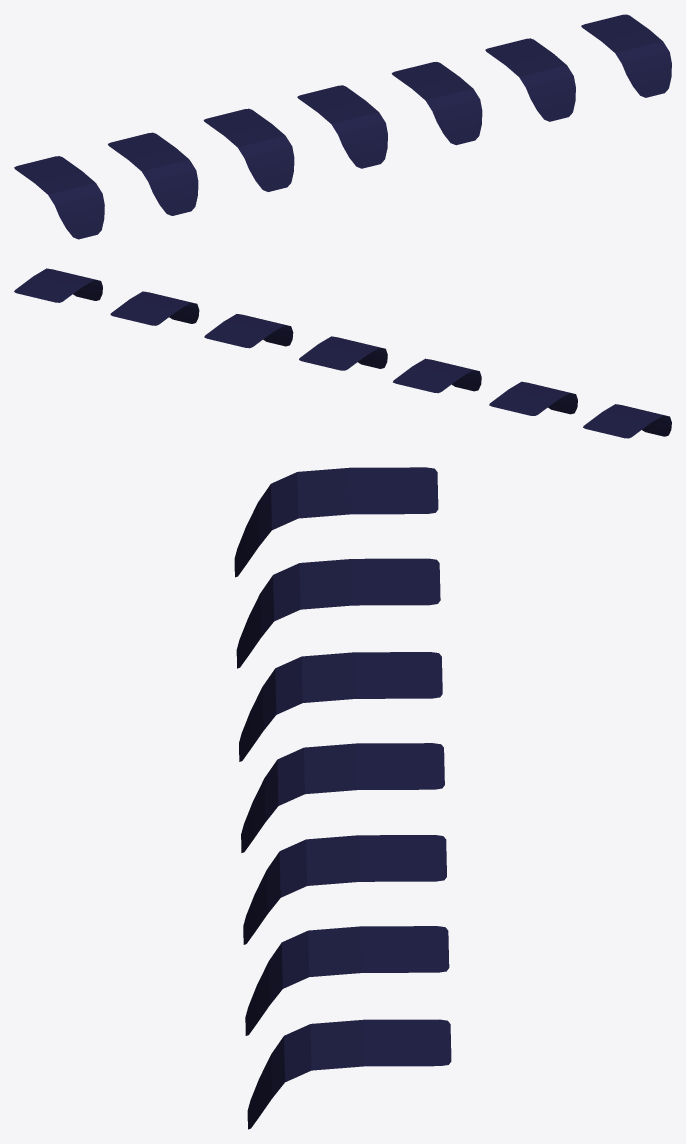
File: cube.047_material.402_0_lev1.glb
The picture shows the model from 3 angles, top to bottom: view 1: azimuth 30°, elevation 25°; view 2: azimuth 150°, elevation 25°; view 3: azimuth 270°, elevation 25°; orthographic projection. The views are drawn at different scales.
Visible parts, largest first — view 1: cube.047_material.402_0_lev1; view 2: cube.047_material.402_0_lev1; view 3: cube.047_material.402_0_lev1.
Part boxes in pixels (<box>): cube.047_material.402_0_lev1: <box>14,14,671,239</box>; cube.047_material.402_0_lev1: <box>14,268,671,438</box>; cube.047_material.402_0_lev1: <box>234,467,451,1129</box>.
Bounding box in the file's own units: 0.5047 × 0.0301 × 0.0772.
